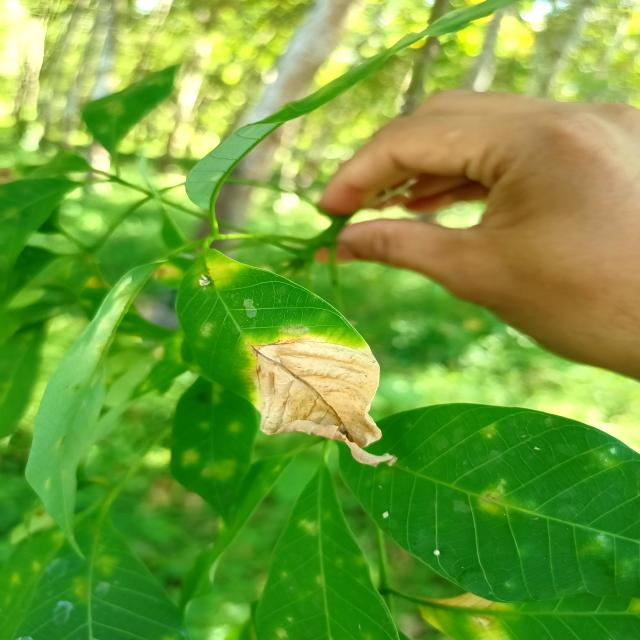Leaf-Blight: (248, 333, 398, 468)
